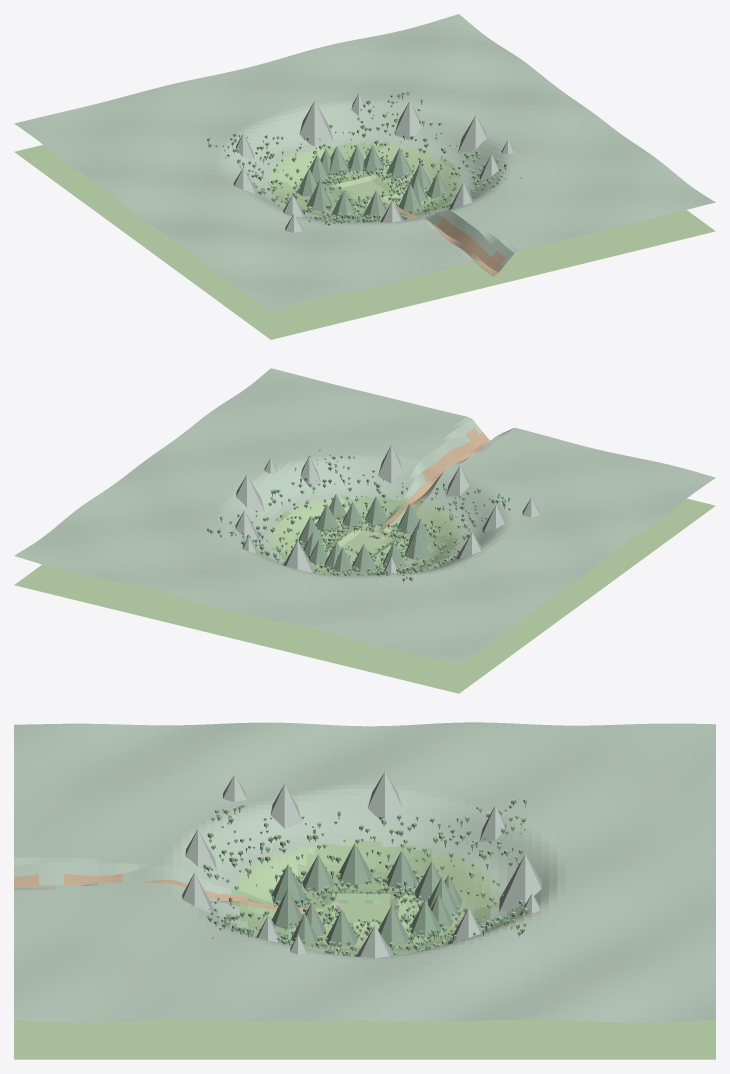
File: vn_valley_surround.glb
3 renders of one model, top to bottom at view 1: azimuth 30°, elevation 25°; view 2: azimuth 150°, elevation 25°; view 3: azimuth 270°, elevation 25°, orthographic. The views are drawn at different scales.
Visible parts, largest first — view 1: SurroundGround, SurroundCatch, SurroundMountains, SurroundForest; view 2: SurroundGround, SurroundCatch, SurroundMountains, SurroundForest; view 3: SurroundGround, SurroundCatch, SurroundMountains, SurroundForest.
Part boxes in pixels (x1,y1,x2,y2): SurroundGround: [14, 14, 715, 311]; SurroundCatch: [14, 145, 715, 339]; SurroundMountains: [233, 93, 513, 232]; SurroundForest: [207, 91, 521, 225]; SurroundGround: [14, 368, 715, 665]; SurroundCatch: [14, 498, 715, 693]; SurroundMountains: [235, 445, 539, 574]; SurroundForest: [207, 449, 510, 583]; SurroundGround: [14, 722, 715, 1022]; SurroundCatch: [14, 900, 715, 1059]; SurroundMountains: [182, 771, 541, 958]; SurroundForest: [203, 799, 528, 956].
Bounding box in the file's own units: 420 × 42.44 × 420.
